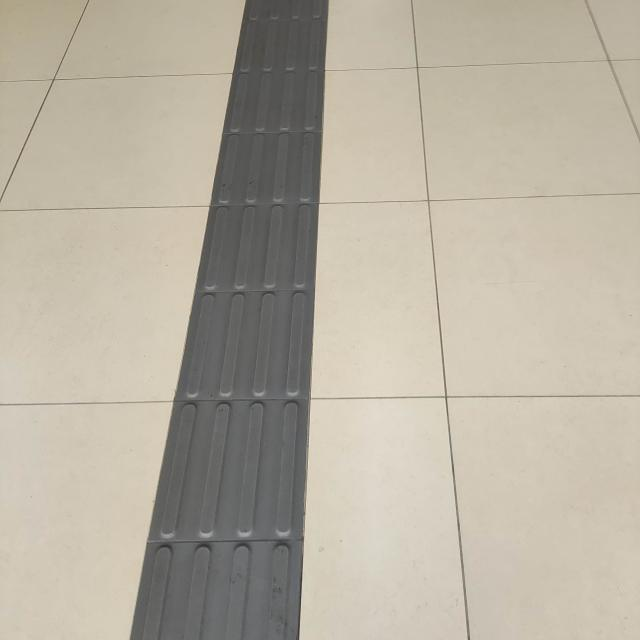lurus: (157, 0, 310, 640)
